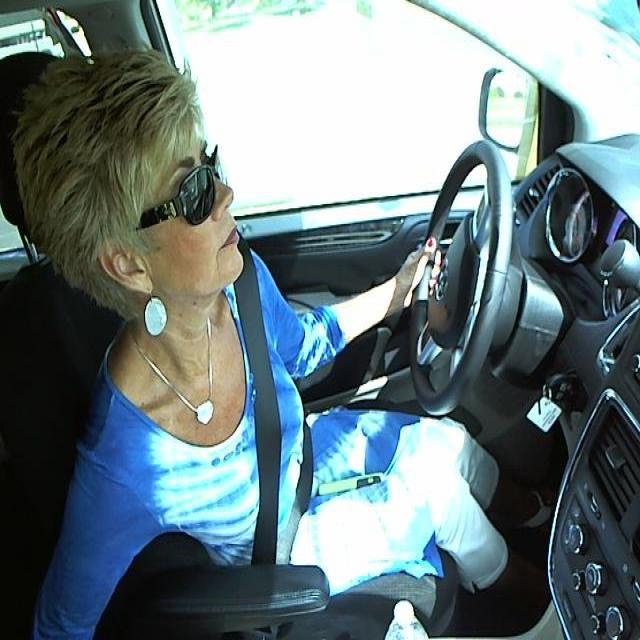seatbelt: (231, 289, 325, 555)
